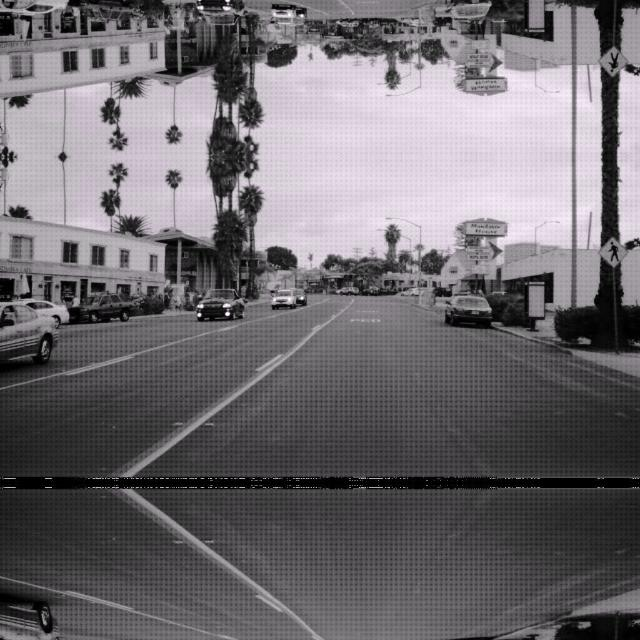pedestrianCrossing: (598, 235, 628, 267), (598, 45, 628, 77)
